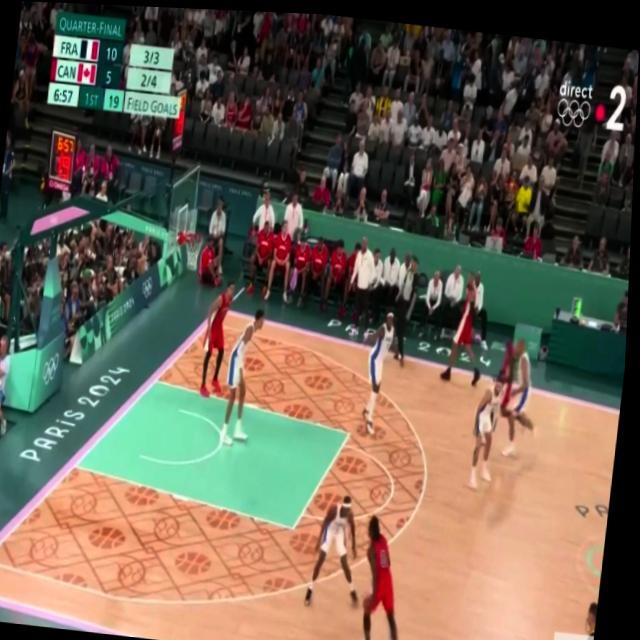ball_handler: (357, 507, 410, 640)
